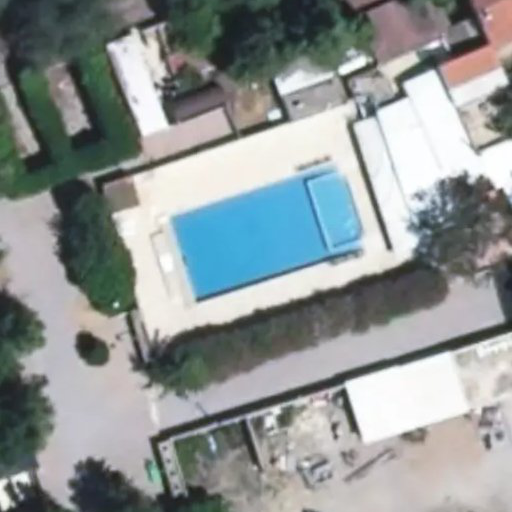pool: (173, 212, 338, 269)
